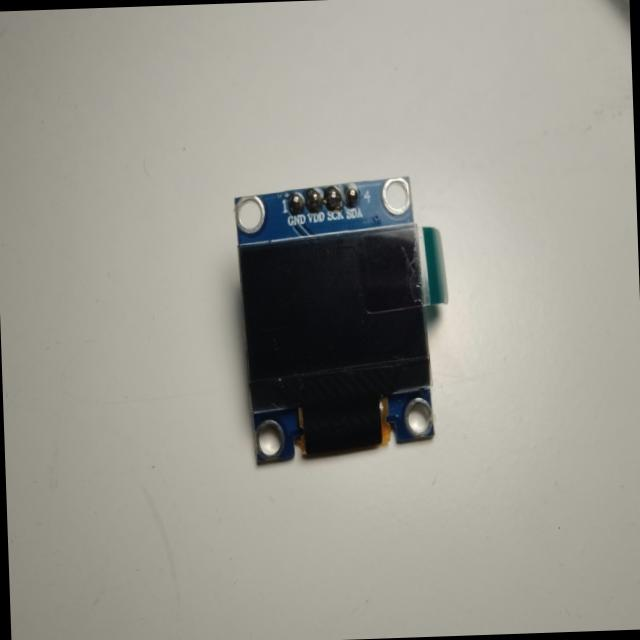oled: (230, 173, 444, 459)
